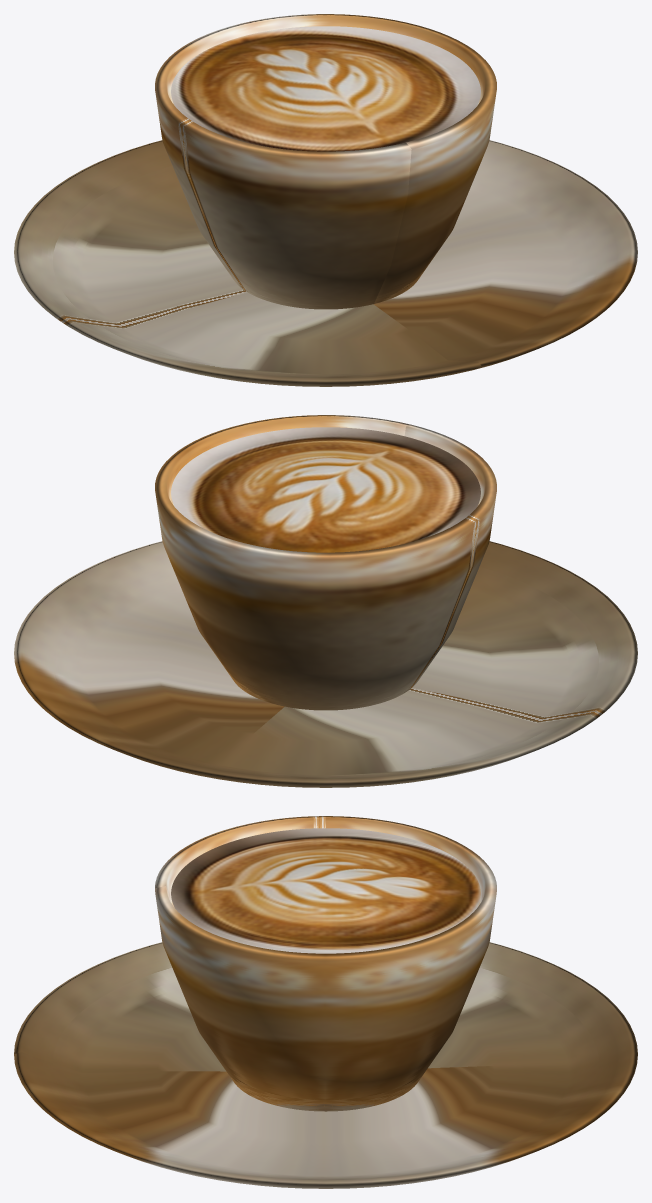
Rendered from willow-cortado.glb.
3 views of the same model, one above another, from view 1: azimuth 30°, elevation 25°; view 2: azimuth 150°, elevation 25°; view 3: azimuth 270°, elevation 25° (orthographic).
Visible parts, largest first — view 1: StonewareSaucer, CeramicCupBody, LatteArtMicrofoam; view 2: StonewareSaucer, CeramicCupBody, LatteArtMicrofoam; view 3: StonewareSaucer, CeramicCupBody, LatteArtMicrofoam.
Boxes of the visible parts, x1=… form: StonewareSaucer: x1=14, y1=140, x2=637, y2=386; CeramicCupBody: x1=155, y1=14, x2=496, y2=309; LatteArtMicrofoam: x1=171, y1=26, x2=480, y2=151; StonewareSaucer: x1=14, y1=541, x2=637, y2=787; CeramicCupBody: x1=155, y1=415, x2=496, y2=710; LatteArtMicrofoam: x1=171, y1=427, x2=480, y2=552; StonewareSaucer: x1=14, y1=942, x2=637, y2=1188; CeramicCupBody: x1=155, y1=816, x2=496, y2=1111; LatteArtMicrofoam: x1=171, y1=828, x2=480, y2=953.
Size of the model in its own units: 2.88 by 1.04 by 2.88.
Materials: 3 (3 with a texture image).
